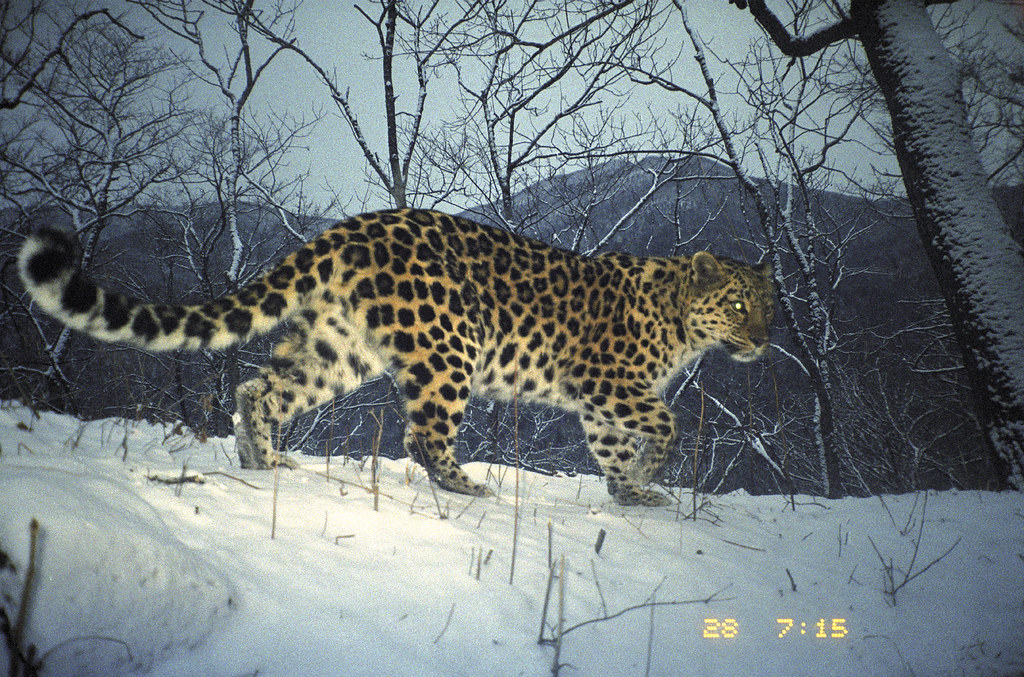amur_leopard: (643, 219, 817, 382)
